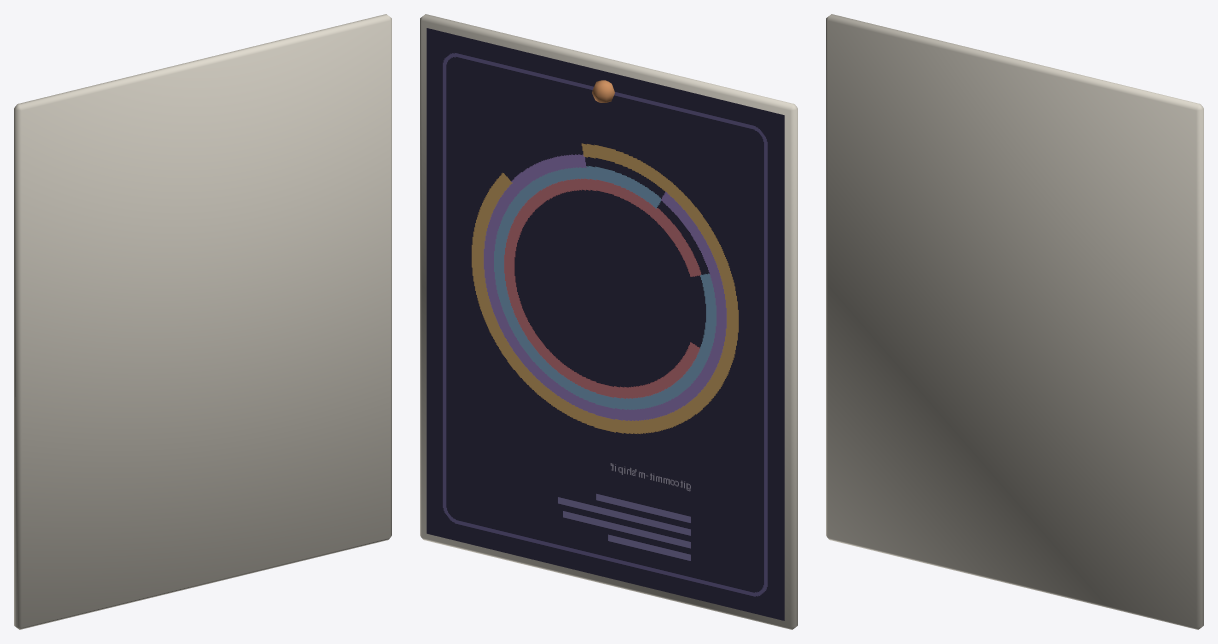
Rendered from junior_poster_1.glb.
The picture shows the model from 3 angles, left to right: view 1: azimuth 30°, elevation 25°; view 2: azimuth 150°, elevation 25°; view 3: azimuth 330°, elevation 25°; orthographic projection.
Visible parts, largest first — view 1: junior_poster_1__Paper; view 2: junior_poster_1, junior_poster_1__Paper; view 3: junior_poster_1__Paper.
Part boxes in pixels (box(x1,y1,x2,y2)): junior_poster_1__Paper: box(14, 14, 391, 629); junior_poster_1: box(426, 28, 784, 620); junior_poster_1__Paper: box(420, 14, 797, 629); junior_poster_1__Paper: box(826, 14, 1203, 629).
Bounding box in the file's own units: 0.42 × 0.56 × 0.028.
Materials: 3 (1 with a texture image).
